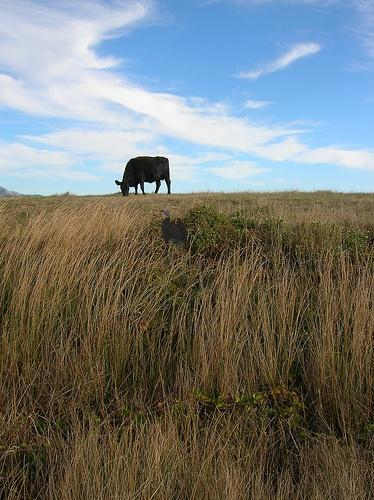tampered: (161, 211, 215, 249)
